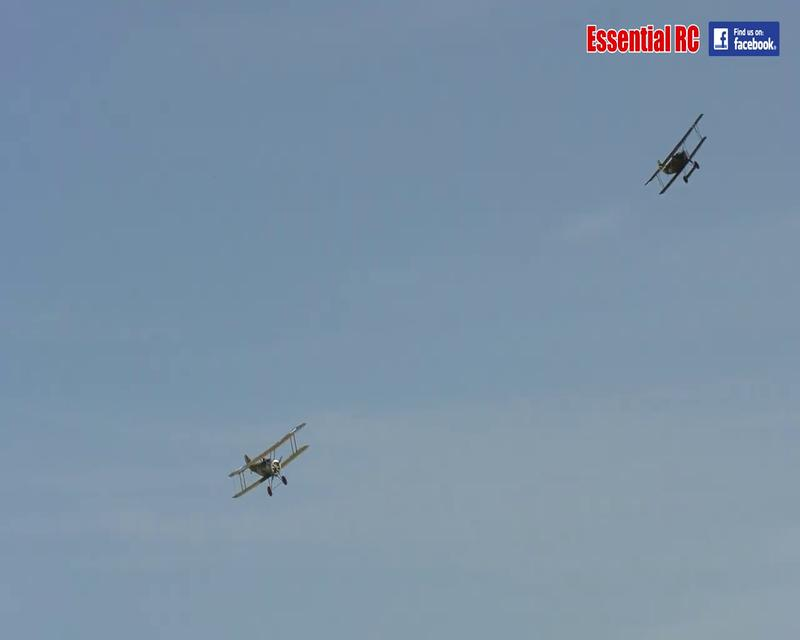UAV: (227, 421, 309, 499), (645, 112, 709, 196)
